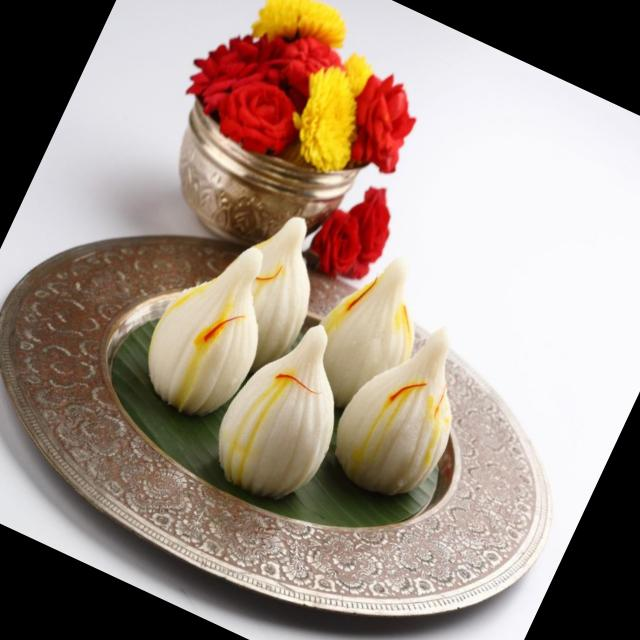modak: (310, 292, 507, 532), (117, 215, 300, 444), (195, 300, 374, 524), (291, 232, 458, 428), (190, 198, 348, 382)
